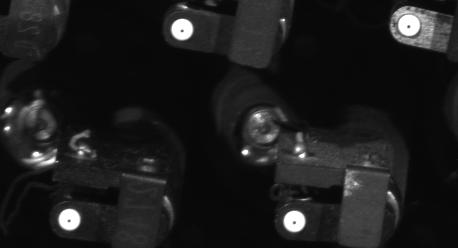fiber: (55, 206, 86, 235), (394, 12, 426, 40), (167, 15, 198, 43), (280, 208, 309, 236)
